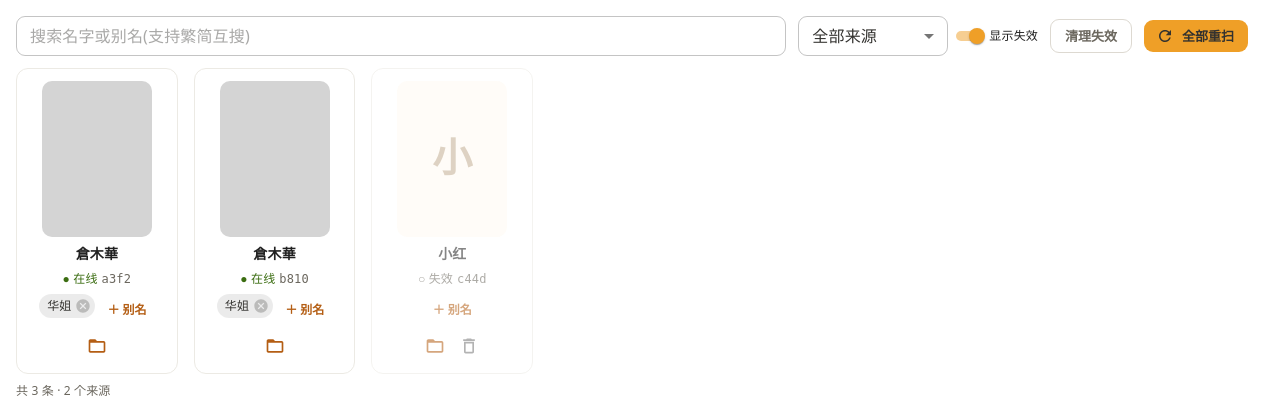
PerformersPage › delete button only on missing rows; search empty state
Expected: the button named "删除失效记录 小红" is shown, left=454, top=331, right=484, bottom=361
In the field named "搜索表演者": (401, 36) left=16, top=16, right=786, bottom=56, type "不存在的人"
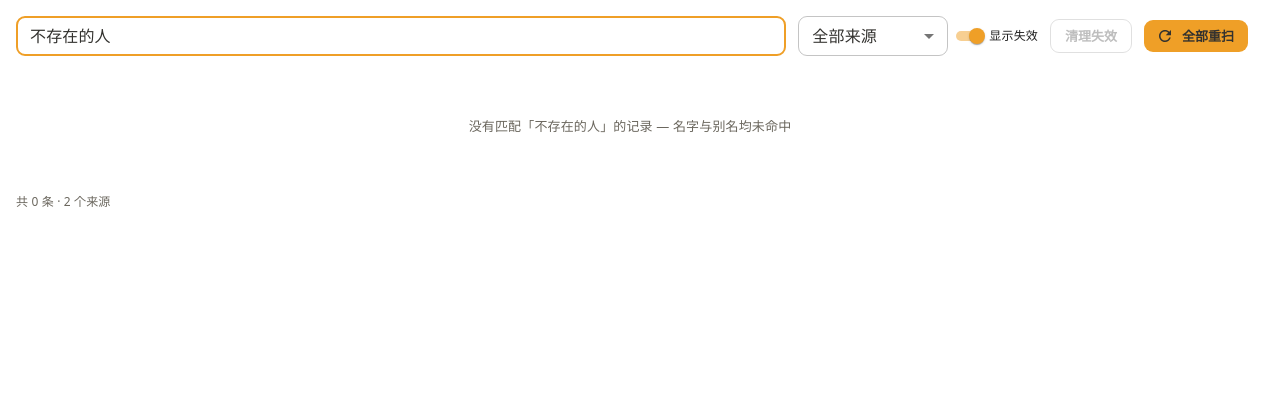
Result: the text "没有匹配「不存在的人」的记录 — 名字与别名均未命中" is shown at left=469, top=117, right=791, bottom=135
